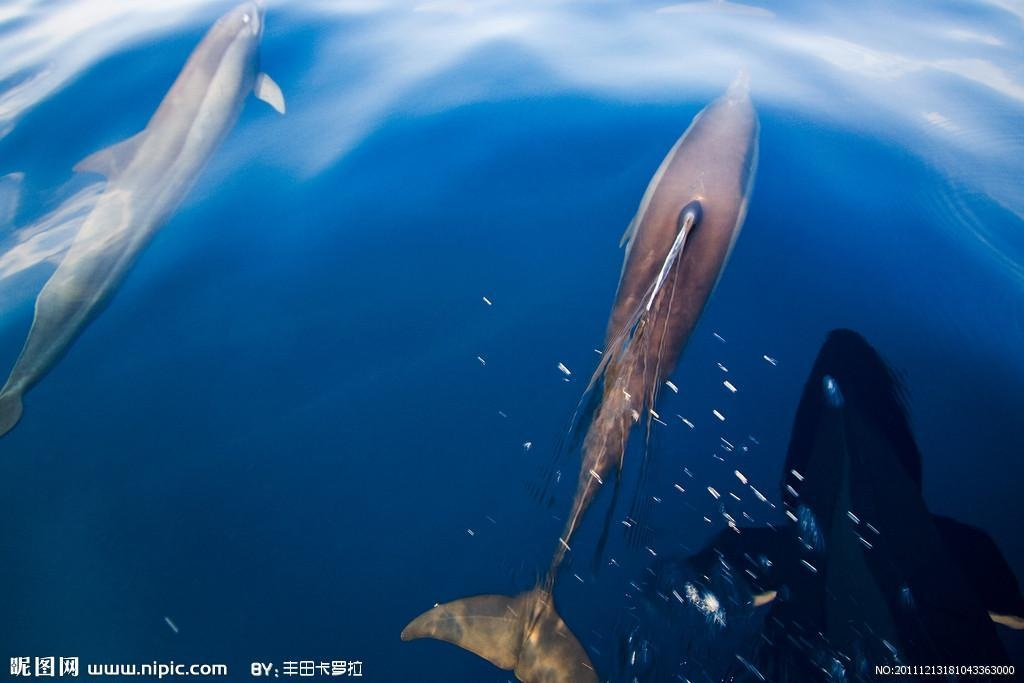fish: (402, 65, 767, 680), (1, 1, 285, 435)
